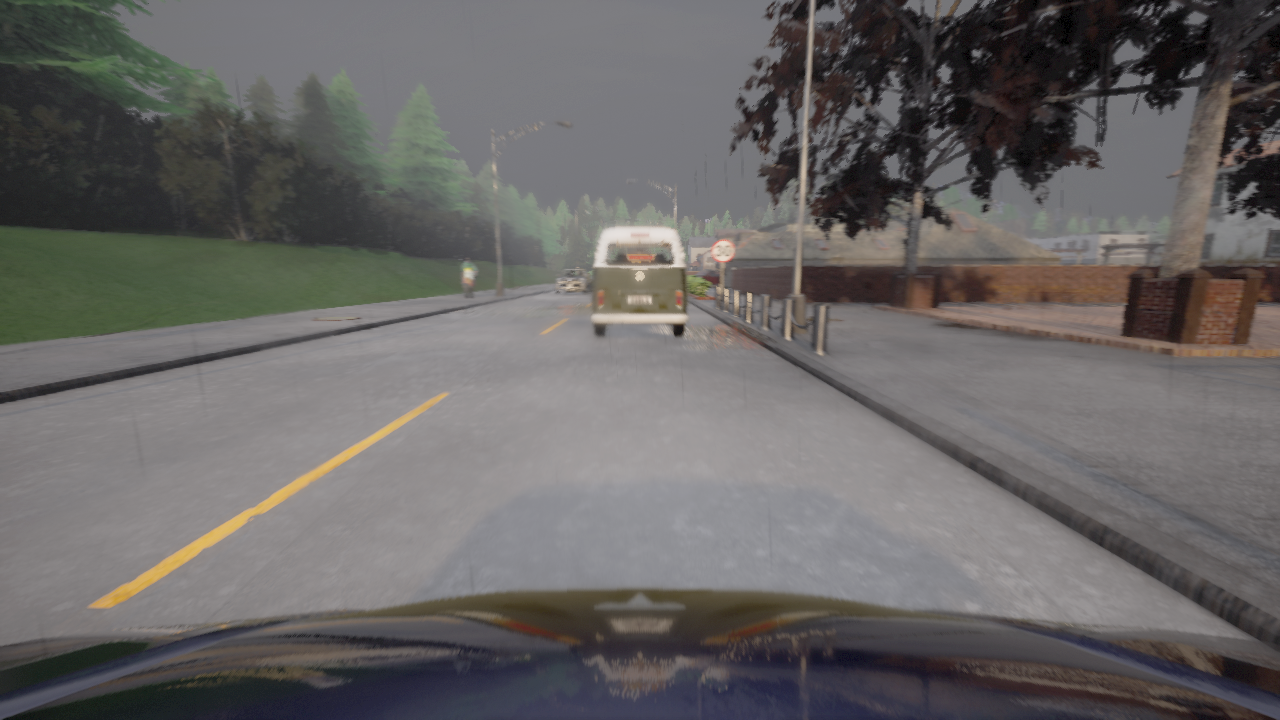cyclist: (0, 588, 1279, 719), (591, 227, 688, 337), (555, 269, 591, 293), (695, 270, 720, 284)
pedestrian: (462, 257, 476, 297)
